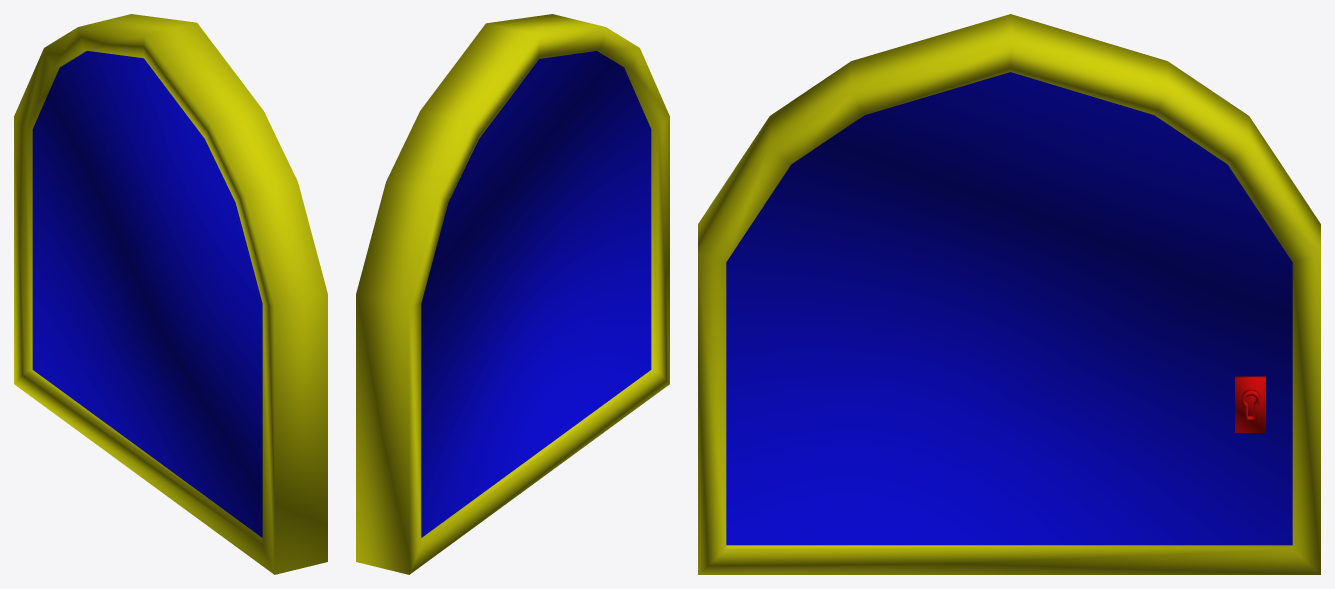
Rendered from Door3_Gizmo.FBX.
The picture shows the model from 3 angles, left to right: view 1: azimuth 30°, elevation 25°; view 2: azimuth 150°, elevation 25°; view 3: azimuth 270°, elevation 25°; orthographic projection. The views are drawn at different scales.
Parts seen in each view (by area): view 1: Door3:Box001; view 2: Door3:Box001; view 3: Door3:Box001, Door3:serrure003.
Part boxes in pixels (x1=…): Door3:Box001: x1=14, y1=14, x2=327, y2=574; Door3:Box001: x1=356, y1=14, x2=669, y2=574; Door3:Box001: x1=698, y1=14, x2=1320, y2=574; Door3:serrure003: x1=1235, y1=376, x2=1265, y2=432.
Bounding box in the file's own units: 11.8 × 88.86 × 94.63.
